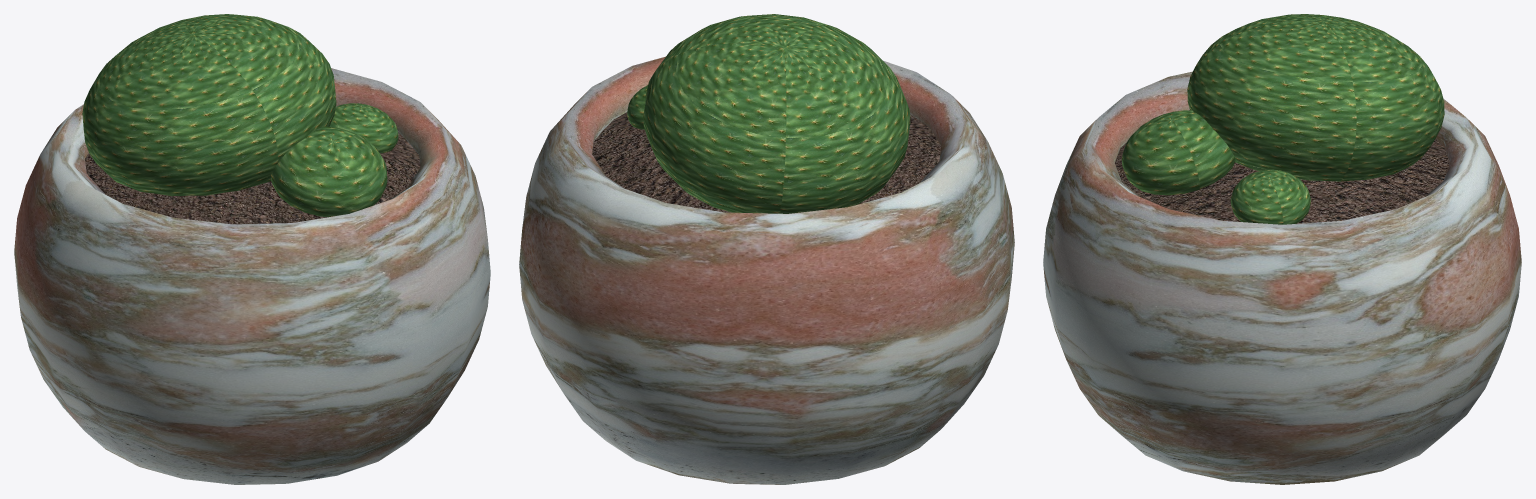
The model's file is Plant 02.fbx.
3 renders of one model, left to right at view 1: azimuth 30°, elevation 25°; view 2: azimuth 150°, elevation 25°; view 3: azimuth 270°, elevation 25°, orthographic. The views are drawn at different scales.
Visible parts, largest first — view 1: pSphere1, pSphere2, pSphere3, pDisc2, pSphere4; view 2: pSphere1, pSphere2, pDisc2, pSphere4; view 3: pSphere1, pSphere2, pDisc2, pSphere3, pSphere4.
Part boxes in pixels (x1,y1,x2,y2): pSphere1: [14, 68, 490, 484]; pSphere2: [82, 14, 336, 196]; pSphere3: [271, 126, 387, 217]; pDisc2: [85, 133, 420, 224]; pSphere4: [329, 103, 398, 153]; pSphere1: [519, 56, 1014, 484]; pSphere2: [643, 14, 910, 213]; pDisc2: [592, 112, 941, 212]; pSphere4: [627, 85, 647, 129]; pSphere1: [1043, 71, 1521, 484]; pSphere2: [1187, 14, 1444, 181]; pDisc2: [1115, 110, 1449, 223]; pSphere3: [1121, 110, 1235, 195]; pSphere4: [1230, 169, 1310, 224].
Size of the model in its own units: 5.88 by 5.37 by 5.88.
Materials: 3 (3 with a texture image).
